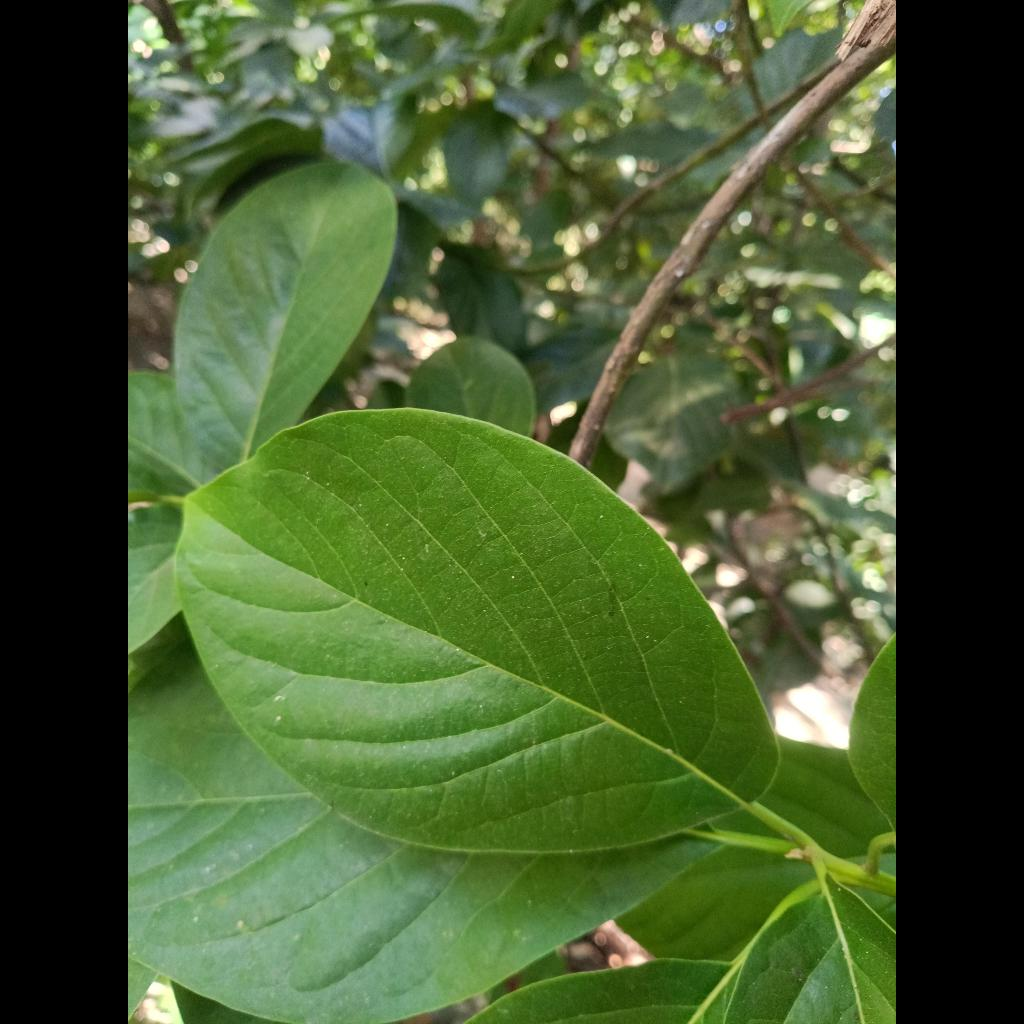hoja_sana: (177, 410, 777, 852)
